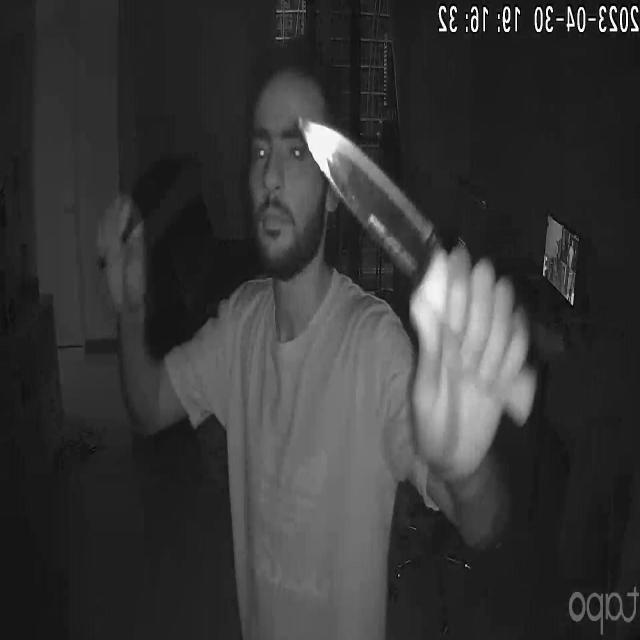Knife: (297, 114, 539, 424)
